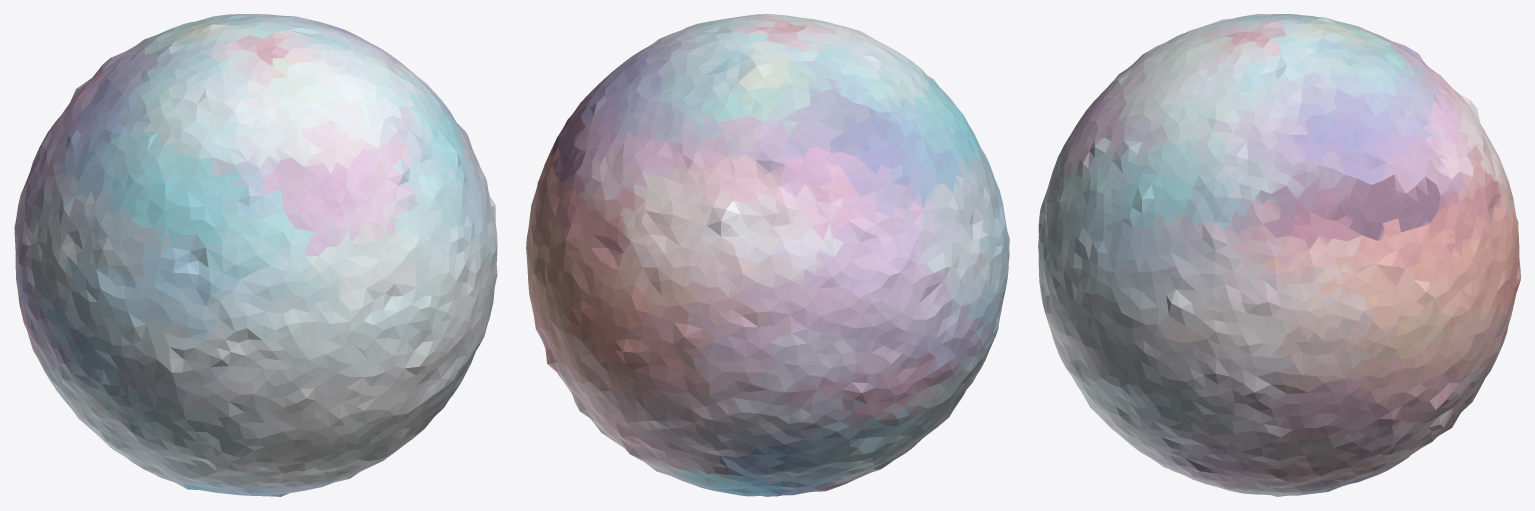
The model's file is skydome_pink.fbx.
The picture shows the model from 3 angles, left to right: view 1: azimuth 30°, elevation 25°; view 2: azimuth 150°, elevation 25°; view 3: azimuth 270°, elevation 25°; orthographic projection.
Visible parts, largest first — view 1: St07.Colorful_dome Ver.1.1_mesh; view 2: St07.Colorful_dome Ver.1.1_mesh; view 3: St07.Colorful_dome Ver.1.1_mesh.
Boxes of the visible parts, bbox=[...] form: St07.Colorful_dome Ver.1.1_mesh: bbox=[14, 14, 497, 496]; St07.Colorful_dome Ver.1.1_mesh: bbox=[526, 14, 1009, 496]; St07.Colorful_dome Ver.1.1_mesh: bbox=[1038, 14, 1520, 496].
Size of the model in its own units: 591828 by 591188 by 592193.
